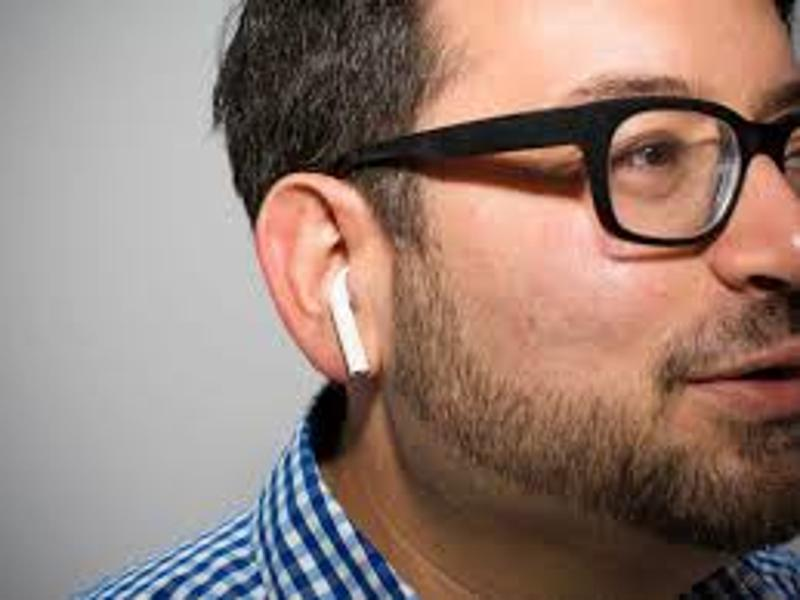headphone: (329, 267, 373, 378)
